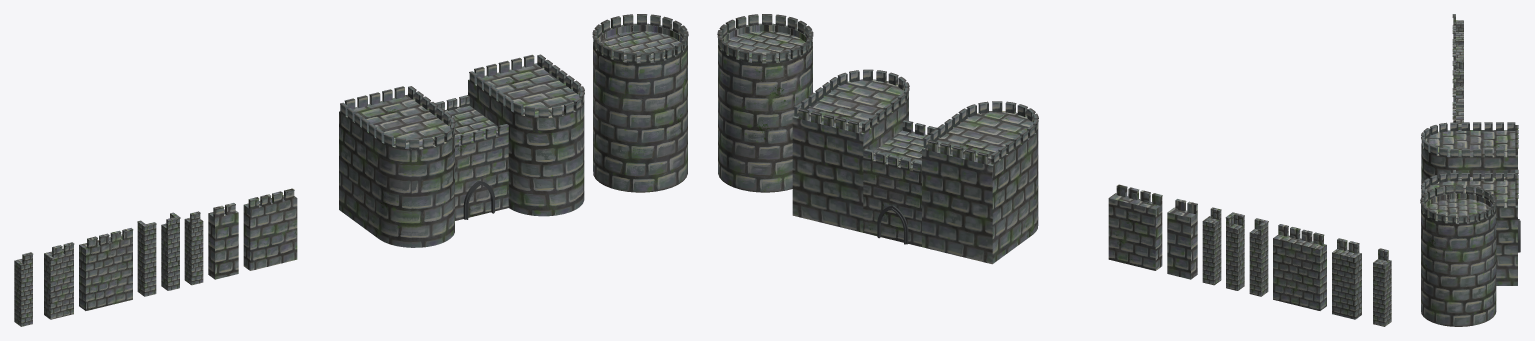
Rendered from castle_test_joined.fbx.
The picture shows the model from 3 angles, left to right: view 1: azimuth 30°, elevation 25°; view 2: azimuth 150°, elevation 25°; view 3: azimuth 270°, elevation 25°; orthographic projection. The views are drawn at different scales.
Parts seen in each view (by area): view 1: New Gatehouse, Cylinder.002, Wall 8m 1, Wall 8m 2, Wall 4m 1, Wall 4m 2, Wall Corner 2, Wall 2m 1, Wall Corner 1, Wall 2m 2; view 2: New Gatehouse, Cylinder.002, Wall 8m 1, Wall 8m 2, Wall 4m 1, Wall 4m 2, Wall Corner 2, Wall Corner 1, Wall 2m 1, Wall 2m 2; view 3: Cylinder.002, New Gatehouse, Wall 8m 1, Wall 8m 2, Wall 4m 1, Wall 4m 2, Wall Corner 2, Wall Corner 1, Wall 2m 2, Wall 2m 1.
Part boxes in pixels (left/top/right/bottom): New Gatehouse: left=339, top=54, right=584, bottom=247; Cylinder.002: left=592, top=14, right=688, bottom=192; Wall 8m 1: left=243, top=188, right=297, bottom=270; Wall 8m 2: left=79, top=228, right=133, bottom=310; Wall 4m 1: left=208, top=203, right=238, bottom=279; Wall 4m 2: left=44, top=242, right=74, bottom=319; Wall Corner 2: left=137, top=220, right=156, bottom=296; Wall 2m 1: left=184, top=211, right=203, bottom=285; Wall Corner 1: left=161, top=212, right=180, bottom=290; Wall 2m 2: left=14, top=252, right=33, bottom=326; New Gatehouse: left=792, top=69, right=1038, bottom=264; Cylinder.002: left=717, top=14, right=813, bottom=192; Wall 8m 1: left=1108, top=184, right=1162, bottom=270; Wall 8m 2: left=1273, top=224, right=1326, bottom=310; Wall 4m 1: left=1167, top=199, right=1197, bottom=279; Wall 4m 2: left=1332, top=238, right=1361, bottom=319; Wall Corner 2: left=1249, top=218, right=1268, bottom=296; Wall Corner 1: left=1225, top=212, right=1244, bottom=290; Wall 2m 1: left=1202, top=207, right=1221, bottom=285; Wall 2m 2: left=1373, top=248, right=1391, bottom=326; Cylinder.002: left=1420, top=184, right=1496, bottom=326; New Gatehouse: left=1421, top=122, right=1520, bottom=285; Wall 8m 1: left=1452, top=102, right=1463, bottom=129; Wall 8m 2: left=1452, top=39, right=1463, bottom=60; Wall 4m 1: left=1452, top=88, right=1463, bottom=109; Wall 4m 2: left=1452, top=25, right=1463, bottom=45; Wall Corner 2: left=1452, top=60, right=1463, bottom=73; Wall Corner 1: left=1452, top=70, right=1463, bottom=86; Wall 2m 2: left=1452, top=14, right=1463, bottom=31; Wall 2m 1: left=1452, top=79, right=1463, bottom=95.
Bounding box in the file's own units: 11308 × 2250 × 1855.
